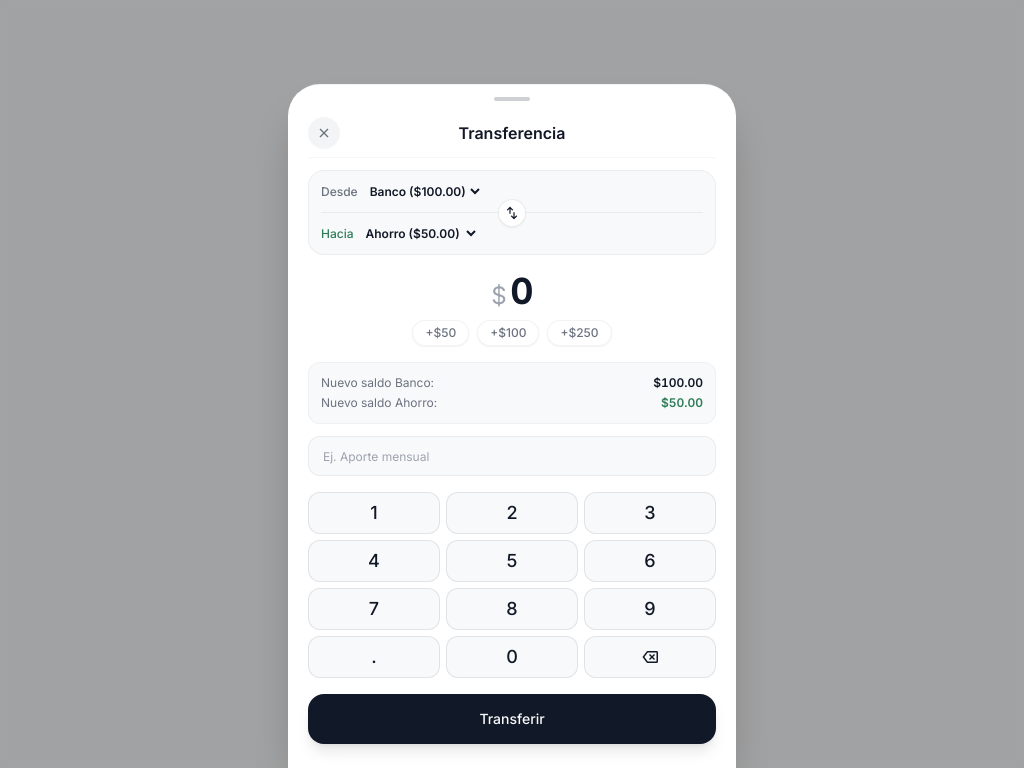
Test: TransferModal › intercambia las cuentas de origen y destino
Click the button titled "Intercambiar origen y destino" at {"x": 512, "y": 212}, box [498,198,526,226]
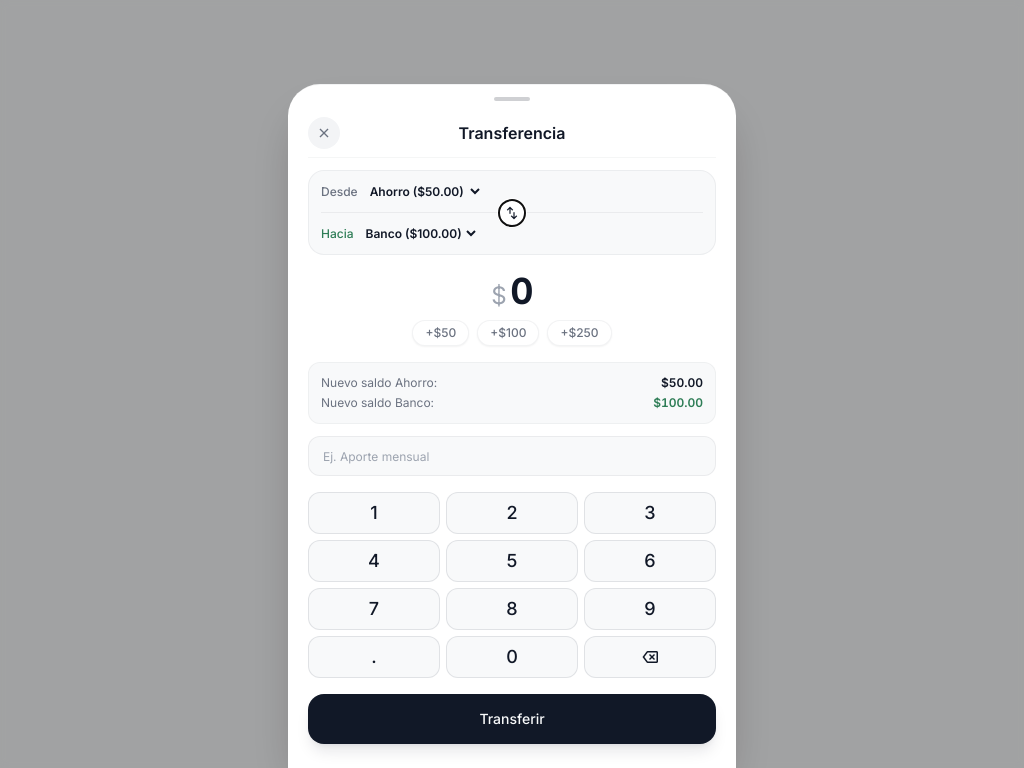
Expected: the dropdown next to "Desde" shows "Ahorro ($50.00)", [366,183,483,200]
Expected: the dropdown next to "Hacia" shows "Banco ($100.00)", [362,225,478,242]
